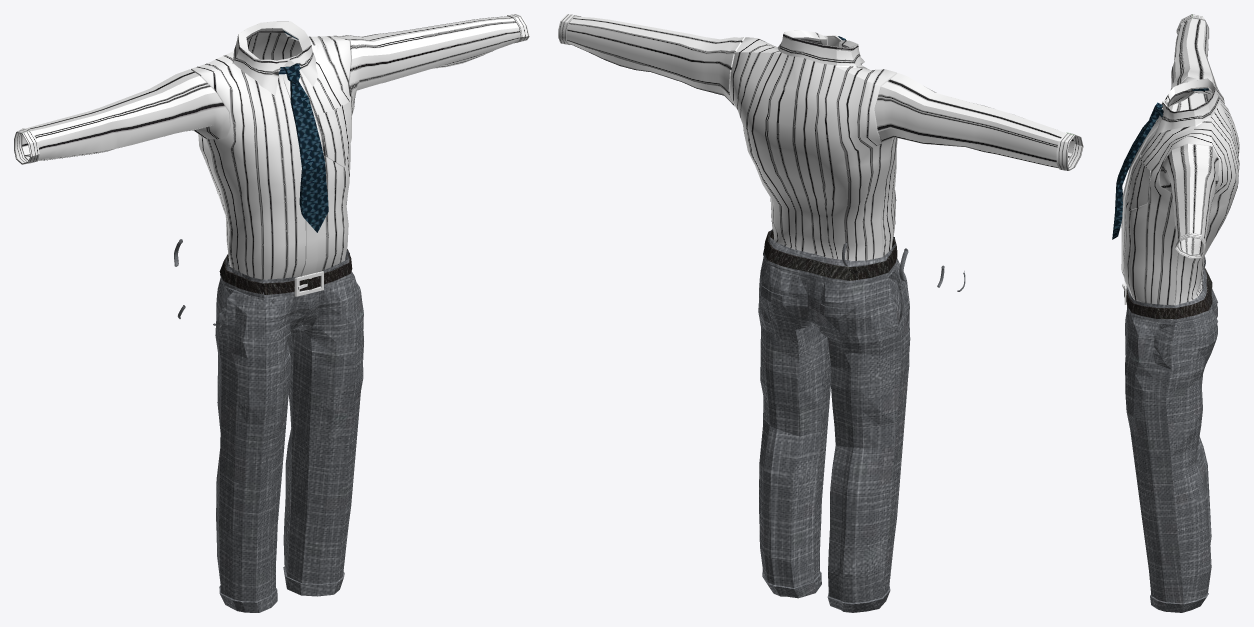
3 views of the same model, side by side, from view 1: azimuth 30°, elevation 25°; view 2: azimuth 150°, elevation 25°; view 3: azimuth 270°, elevation 25° (orthographic). The views are drawn at different scales.
Parts seen in each view (by area): view 1: full sleeve un wrap001, pants_03 - Default_0, tie, belt; view 2: full sleeve un wrap001, pants_03 - Default_0, belt; view 3: pants_03 - Default_0, full sleeve un wrap001, tie, belt.
Part boxes in pixels (x1,y1,x2,y2): full sleeve un wrap001: (14,14,529,279); pants_03 - Default_0: (215,249,363,612); tie: (278,30,328,232); belt: (219,249,352,294); full sleeve un wrap001: (558,14,1083,260); pants_03 - Default_0: (758,229,910,612); belt: (764,230,897,280); pants_03 - Default_0: (1125,269,1217,612); full sleeve un wrap001: (1121,14,1239,305); tie: (1112,88,1208,239); belt: (1124,267,1212,319).
Bounding box in the file's own units: 46.69 × 49.68 × 11.48.
Materials: 5 (4 with a texture image).
